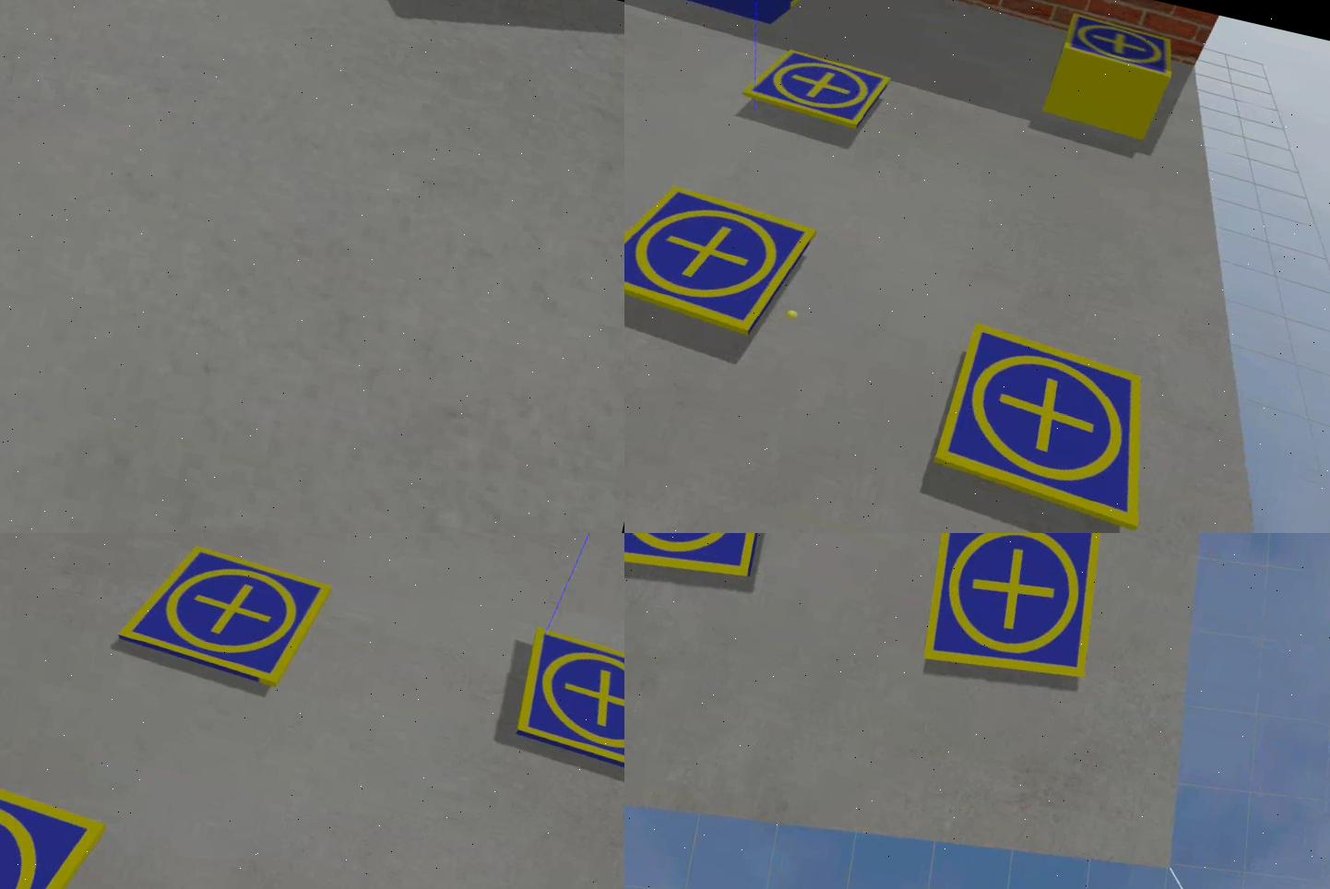large_base: (625, 1, 845, 40)
small_base: (927, 318, 1181, 533), (111, 534, 338, 700), (908, 534, 1121, 702), (625, 167, 821, 347), (506, 623, 625, 790), (1, 744, 113, 889), (744, 41, 896, 140), (625, 534, 787, 599), (1061, 10, 1181, 81)
